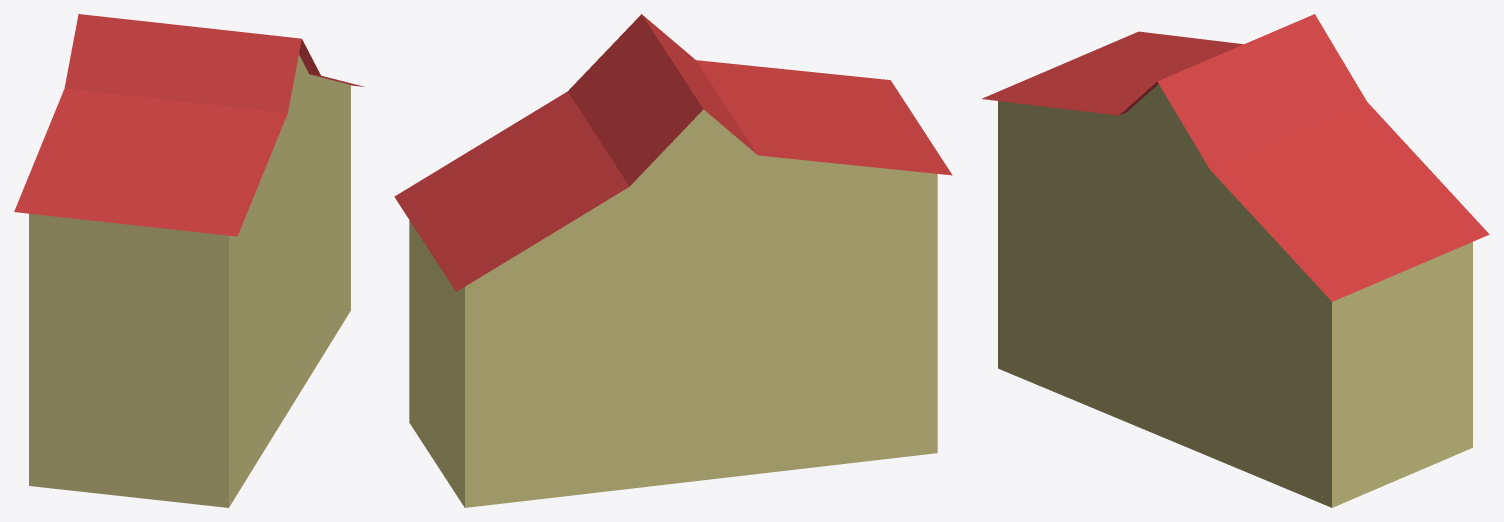
The picture shows the model from 3 angles, left to right: view 1: azimuth 30°, elevation 25°; view 2: azimuth 150°, elevation 25°; view 3: azimuth 270°, elevation 25°; orthographic projection. The views are drawn at different scales.
Bounding box in the file's own units: 10.78 × 10.83 × 8.47.
